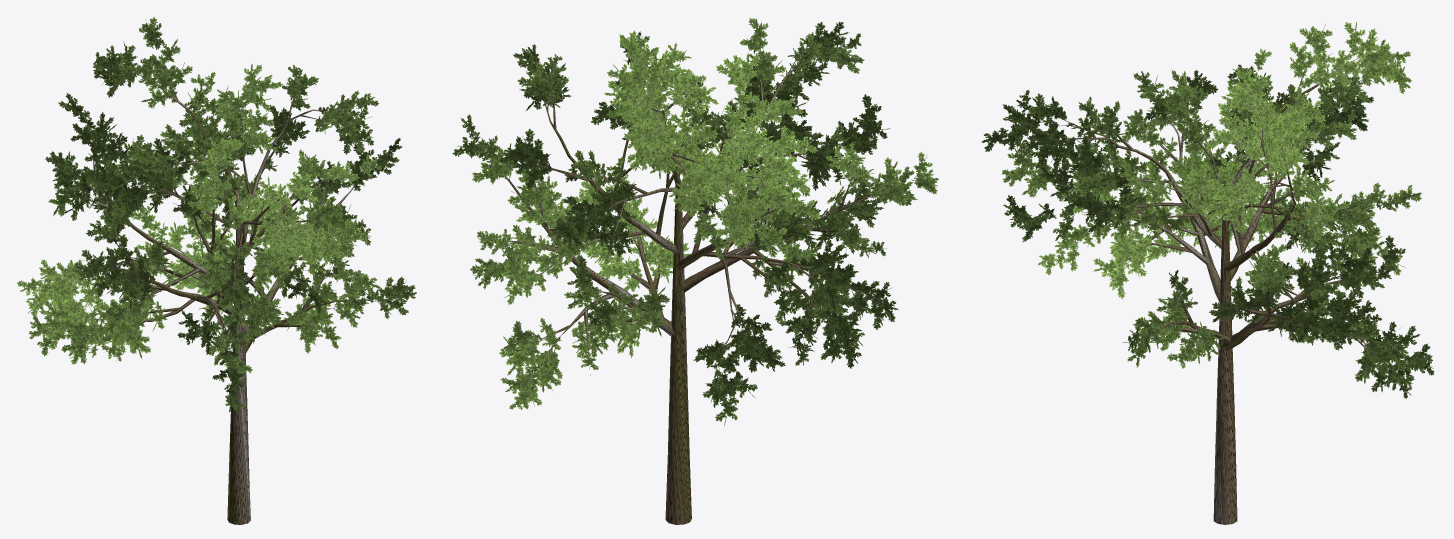
File: oak.glb
3 renders of one model, left to right at view 1: azimuth 30°, elevation 25°; view 2: azimuth 150°, elevation 25°; view 3: azimuth 270°, elevation 25°, orthographic. The views are drawn at different scales.
Parts seen in each view (by area): view 1: oak-leaves, oak-bark; view 2: oak-leaves, oak-bark; view 3: oak-leaves, oak-bark.
Boxes of the visible parts, box(x1,y1,x2,y2) form: oak-leaves: box(16, 17, 416, 412); oak-bark: box(69, 62, 377, 524); oak-leaves: box(452, 18, 938, 426); oak-bark: box(483, 54, 889, 524); oak-leaves: box(981, 21, 1434, 398); oak-bark: box(1037, 54, 1392, 524).
Size of the model in its own units: 9.51 by 11 by 9.5.
Materials: 2 (2 with a texture image).
